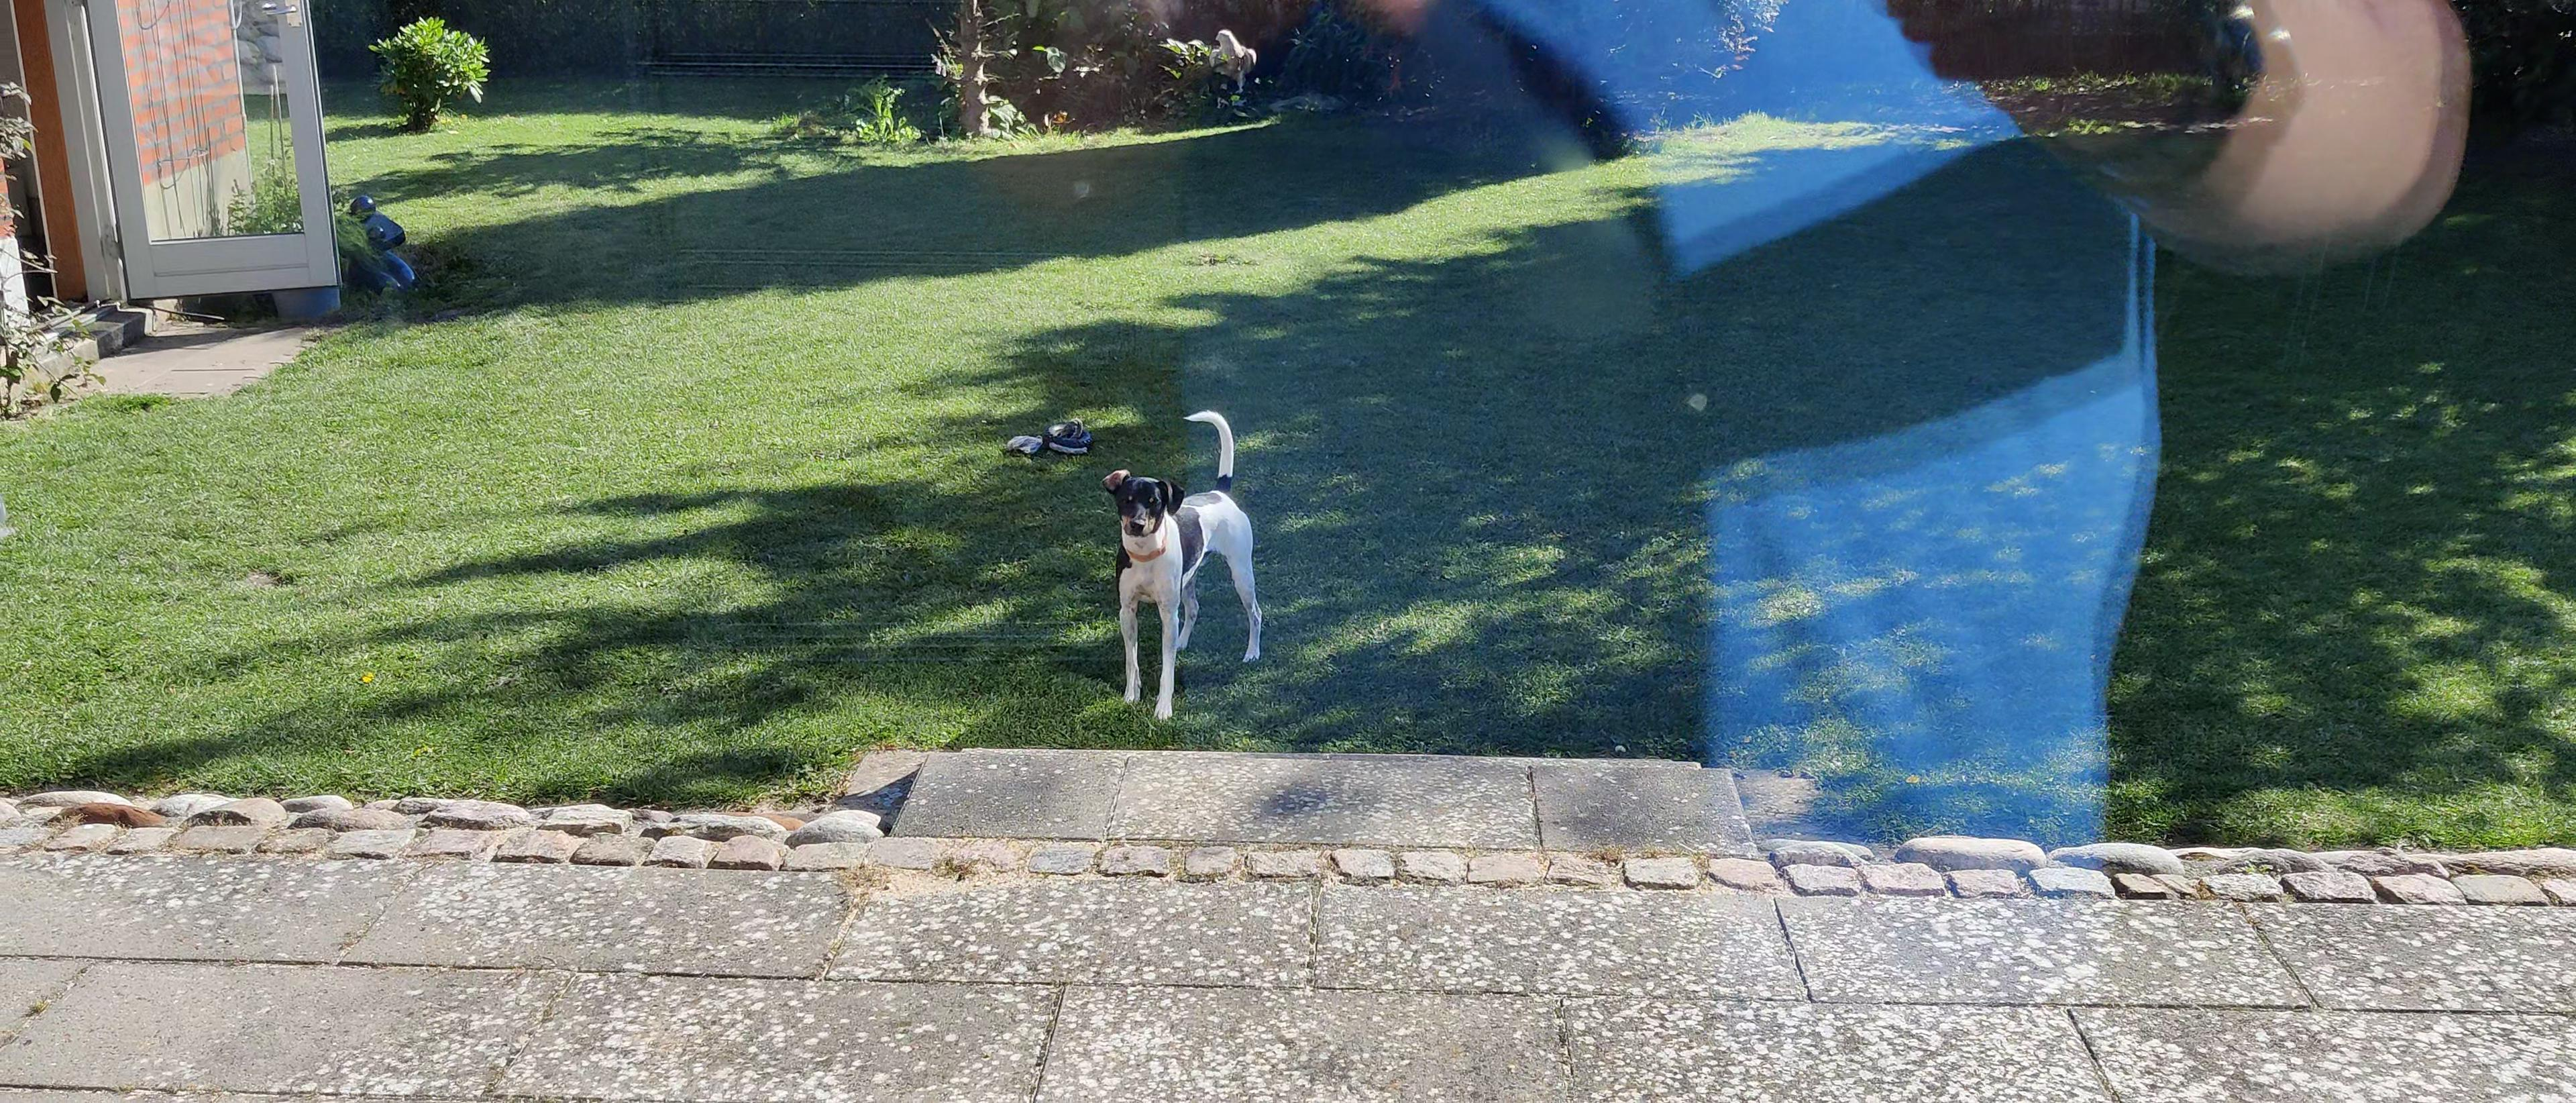Dog: (1092, 408, 1270, 727)
